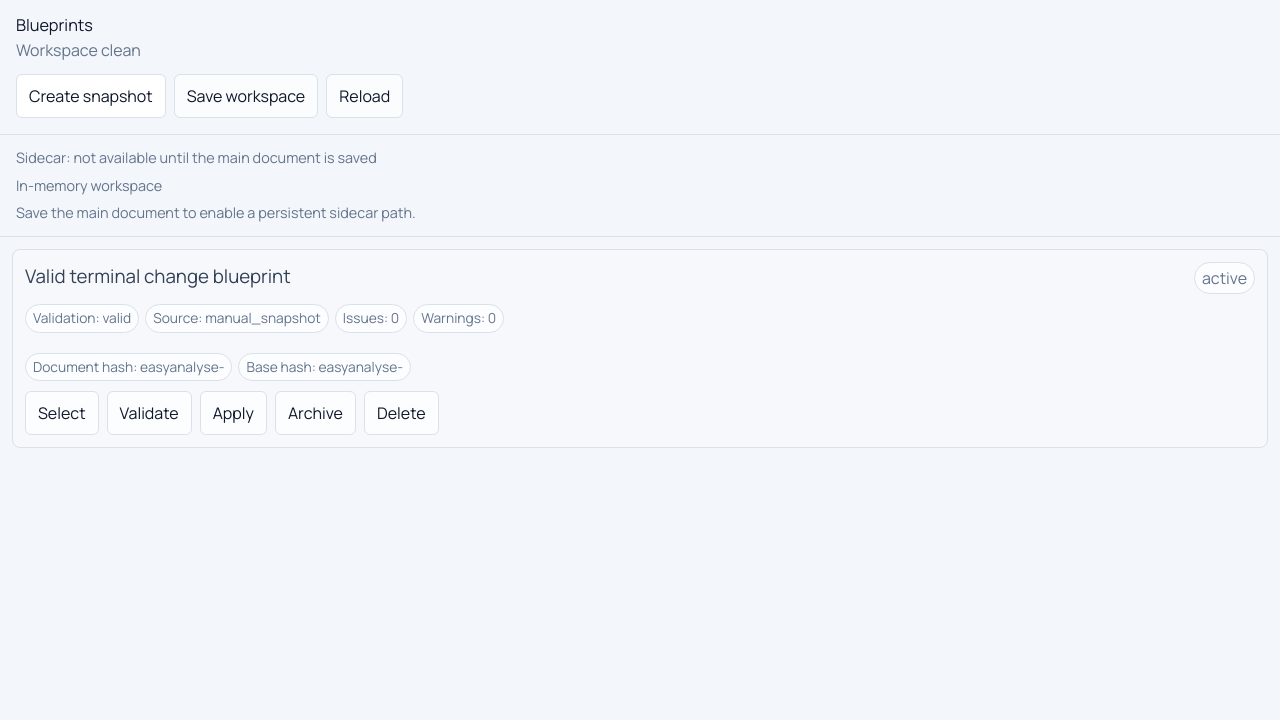
Test: BlueprintsPanel › opens valid blueprint confirmation and renders non-label terminal changes in the diff summary
The width and height of the screenshot is (1280, 720).
Click the button "Apply": {"x": 233, "y": 413} [200, 391, 267, 435]
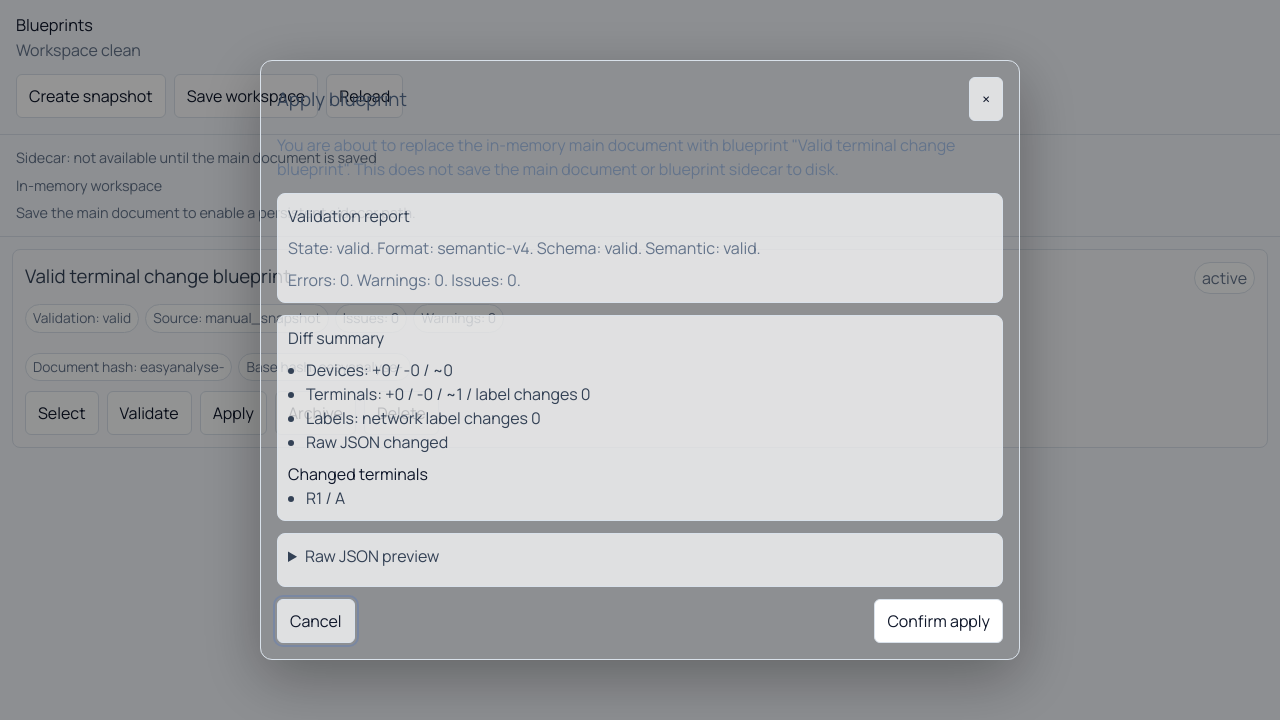
Check: the dialog shows "Apply blueprint", box [277, 86, 407, 112]
Check: the dialog shows "State: valid", box [288, 237, 761, 259]
Check: the dialog shows "Terminals: +0 / -0 / ~1 / label changes 0", box [306, 383, 591, 405]
